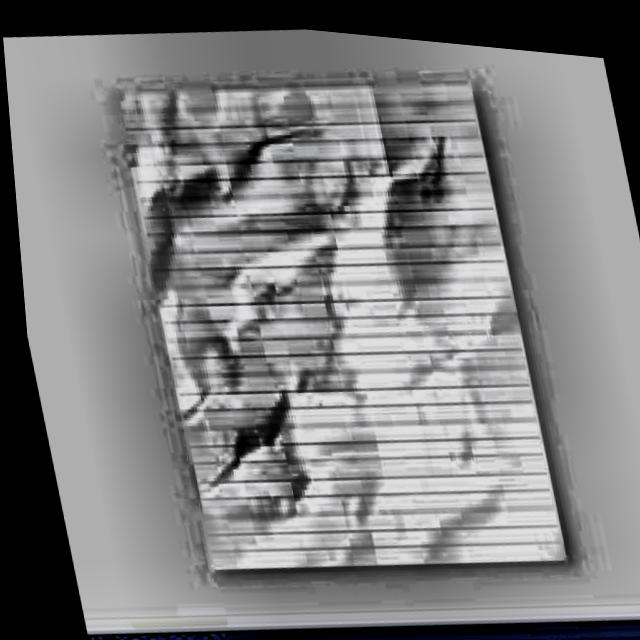Paper: (104, 39, 566, 591)
